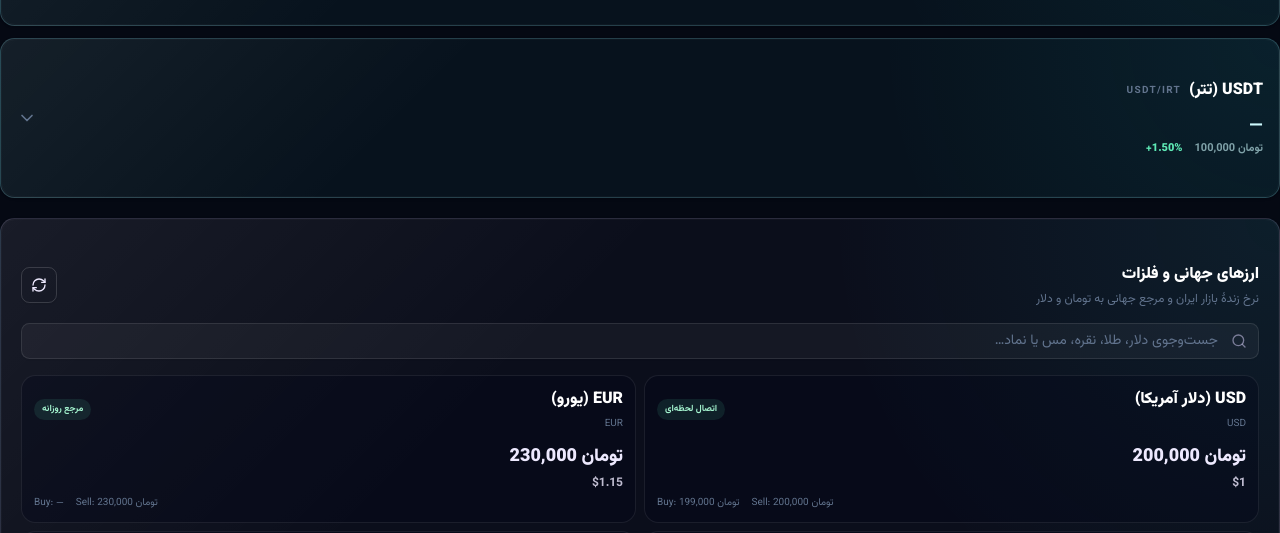
Test: ClassicCryptoMarket › searches the global currency board by Persian name and shows its toman quote
(page scrolled)
Type "یورو" into the field named "جست‌وجوی ارزهای جهانی و فلزات" at coordinates (640, 341), box [21,323,1259,359]
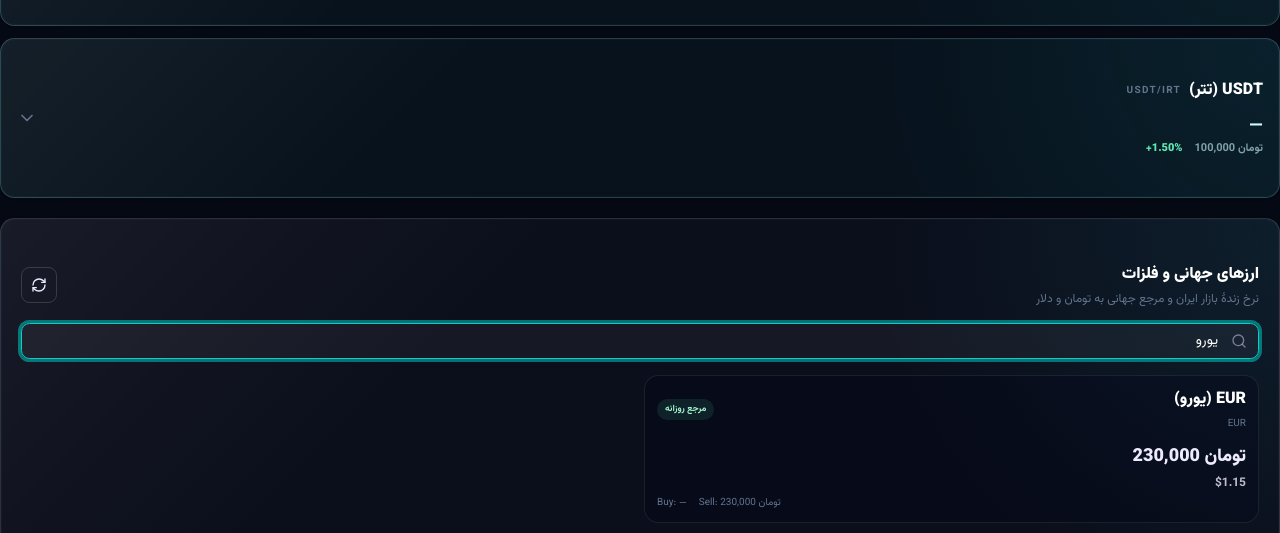
Expected: the text "EUR (یورو)" is shown, [1174,388,1246,412]
Expected: the button "دلار آمریکا" is gone
